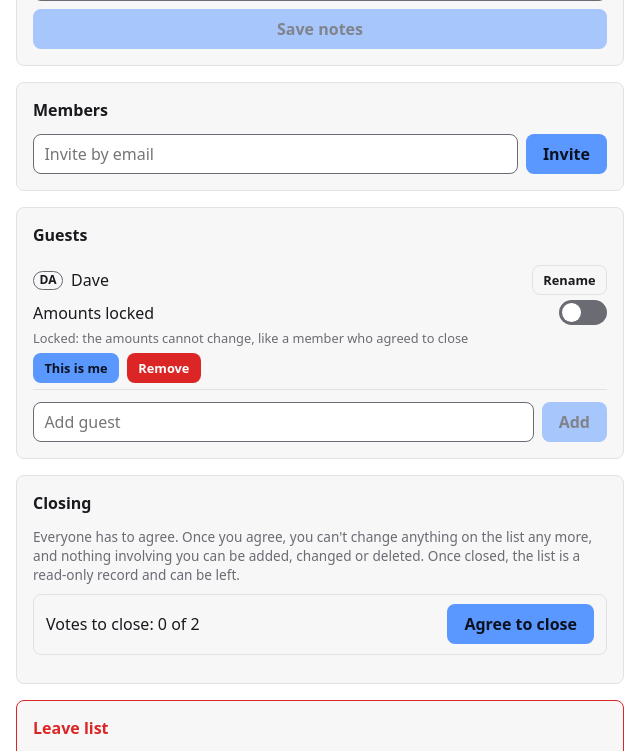
Test: list properties: the Guests section › says a refusal in words
(page scrolled)
Click the button "This is me" at (76, 368), box x1=33 y1=353 x2=119 y2=383
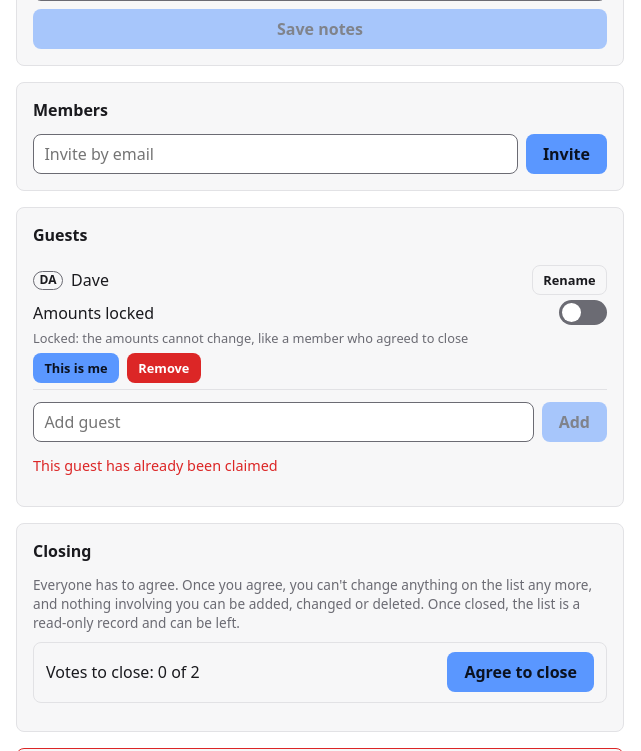
Expected: the message reads "This guest has already been claimed", x1=33 y1=456 x2=278 y2=475
